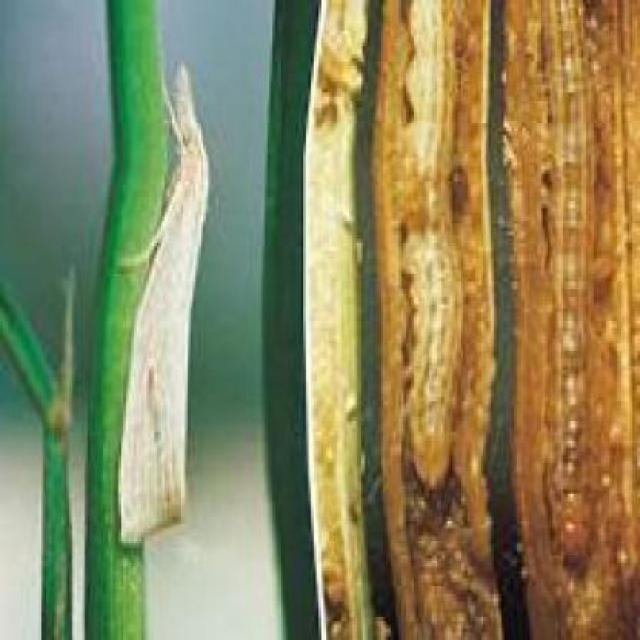stem-borer: (114, 54, 212, 552)
